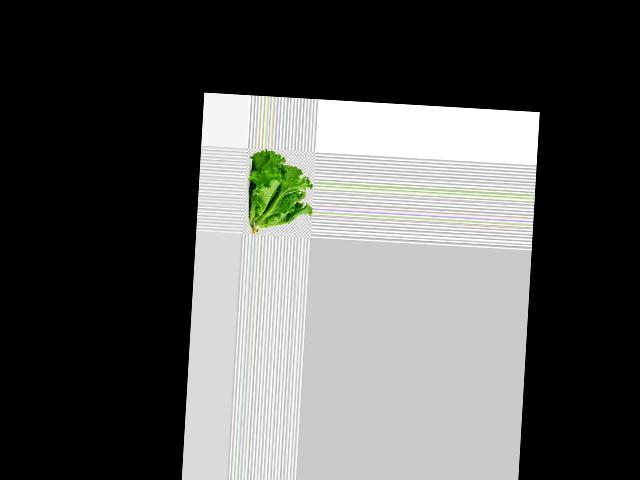lettuce: (247, 149, 315, 237)
